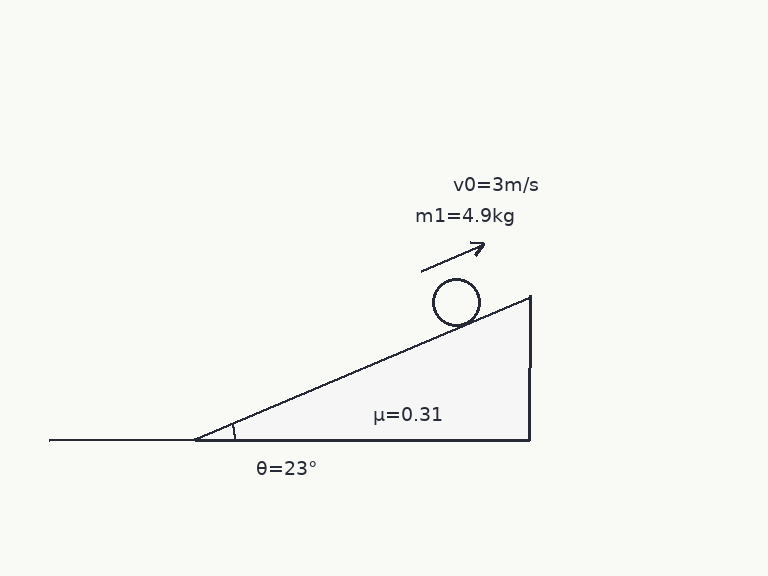ball: (430, 276, 482, 328)
ramp: (193, 295, 532, 441)
